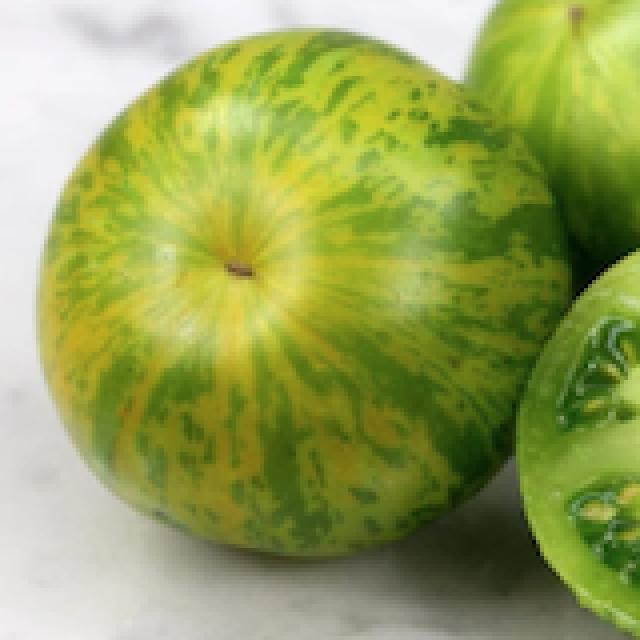yesil: (6, 11, 584, 553)
